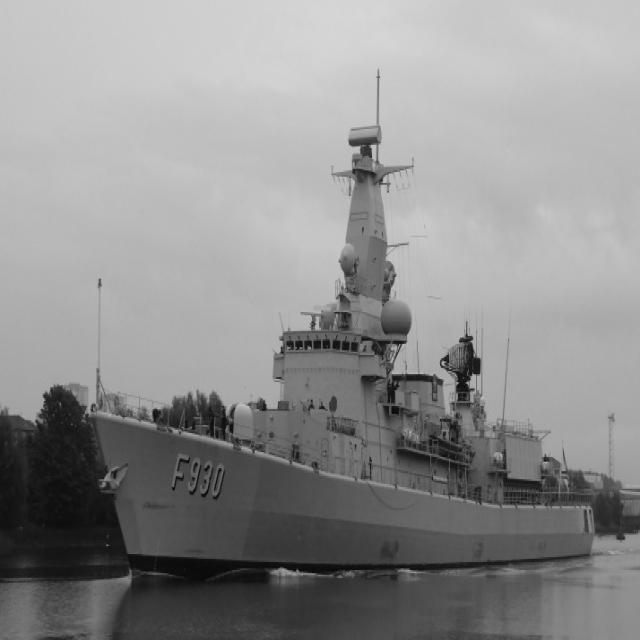Fragata: (79, 122, 602, 592)
